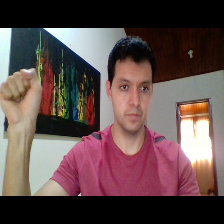9D: (1, 64, 42, 129)
